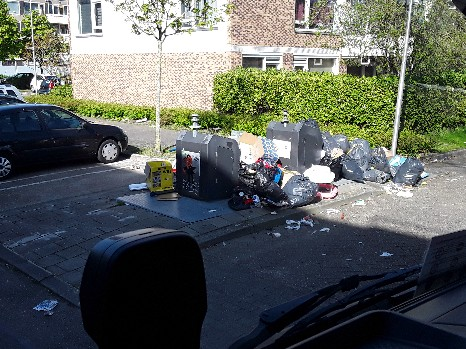Container: (178, 123, 237, 201), (273, 118, 320, 165)
Papier: (238, 132, 262, 165)
Rest: (325, 122, 353, 176), (136, 153, 170, 194), (334, 130, 359, 177), (240, 173, 275, 206), (340, 145, 371, 181), (376, 141, 409, 173), (318, 167, 347, 196), (373, 163, 428, 178), (282, 175, 309, 201)
Voertuig: (2, 95, 133, 165)
